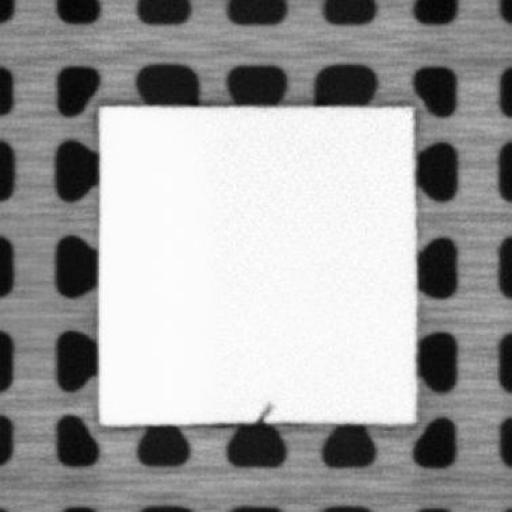DIE_INK: (253, 400, 275, 420)
